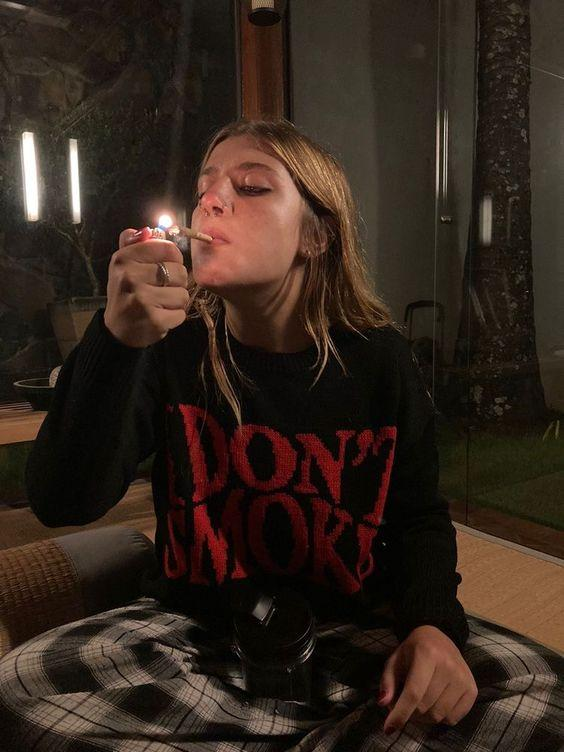cigarette: (169, 226, 213, 243)
